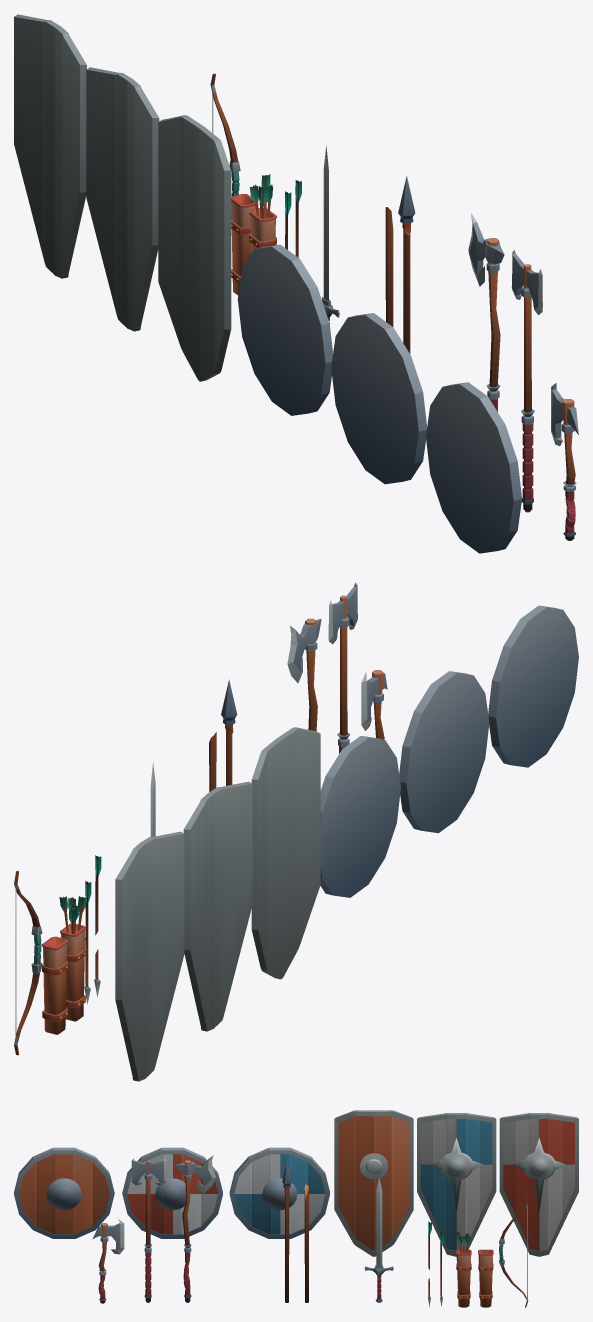
File: Weapons.fbx
The picture shows the model from 3 angles, top to bottom: view 1: azimuth 30°, elevation 25°; view 2: azimuth 150°, elevation 25°; view 3: azimuth 270°, elevation 25°; orthographic projection. The views are drawn at different scales.
Visible parts, largest first — view 1: Long_shield.001, Long_shield.002, Long_shield, Round_shield, Round_shield.001, Round_shield.002, Axe_double, Axe_long, Axe_small, Quiver_empty, Quiver_full, Spear (+3 smaller); view 2: Long_shield.001, Long_shield.002, Long_shield, Round_shield, Round_shield.001, Round_shield.002, Quiver_full, Quiver_empty, Axe_double, Axe_long, Bow, Axe_small (+1 smaller); view 3: Long_shield.001, Long_shield.002, Long_shield, Round_shield, Round_shield.002, Round_shield.001, Axe_double, Axe_long, Quiver_full, Axe_small, Sword, Quiver_empty (+3 smaller).
Part boxes in pixels (x1=…): Long_shield.001: x1=158, y1=115, x2=231, y2=381; Long_shield.002: x1=14, y1=14, x2=86, y2=278; Long_shield: x1=86, y1=67, x2=159, y2=331; Round_shield: x1=426, y1=382, x2=521, y2=553; Round_shield.001: x1=331, y1=313, x2=427, y2=484; Round_shield.002: x1=237, y1=244, x2=332, y2=415; Axe_double: x1=511, y1=250, x2=542, y2=512; Axe_long: x1=468, y1=213, x2=504, y2=411; Axe_small: x1=551, y1=383, x2=578, y2=540; Quiver_empty: x1=231, y1=193, x2=255, y2=295; Quiver_full: x1=249, y1=174, x2=276, y2=253; Spear: x1=398, y1=176, x2=415, y2=353; Long_shield.001: x1=251, y1=727, x2=320, y2=979; Long_shield.002: x1=115, y1=831, x2=184, y2=1081; Long_shield: x1=183, y1=781, x2=252, y2=1031; Round_shield: x1=488, y1=605, x2=578, y2=767; Round_shield.001: x1=399, y1=671, x2=489, y2=833; Round_shield.002: x1=320, y1=736, x2=400, y2=897; Quiver_full: x1=59, y1=896, x2=86, y2=1021; Quiver_empty: x1=42, y1=936, x2=68, y2=1034; Axe_double: x1=328, y1=582, x2=357, y2=753; Axe_long: x1=287, y1=618, x2=321, y2=731; Bow: x1=14, y1=871, x2=42, y2=1055; Axe_small: x1=361, y1=670, x2=387, y2=739; Long_shield.001: x1=334, y1=1110, x2=413, y2=1256; Long_shield.002: x1=499, y1=1113, x2=578, y2=1256; Long_shield: x1=417, y1=1113, x2=496, y2=1256; Round_shield: x1=14, y1=1147, x2=114, y2=1238; Round_shield.002: x1=229, y1=1147, x2=329, y2=1238; Round_shield.001: x1=122, y1=1147, x2=222, y2=1238; Axe_double: x1=131, y1=1158, x2=166, y2=1302; Axe_long: x1=175, y1=1155, x2=216, y2=1302; Quiver_full: x1=456, y1=1231, x2=471, y2=1307; Axe_small: x1=92, y1=1219, x2=124, y2=1303; Sword: x1=364, y1=1177, x2=393, y2=1302; Quiver_empty: x1=478, y1=1249, x2=493, y2=1307.
Size of the model in its own units: 0.7866 by 1.27 by 4.17.
